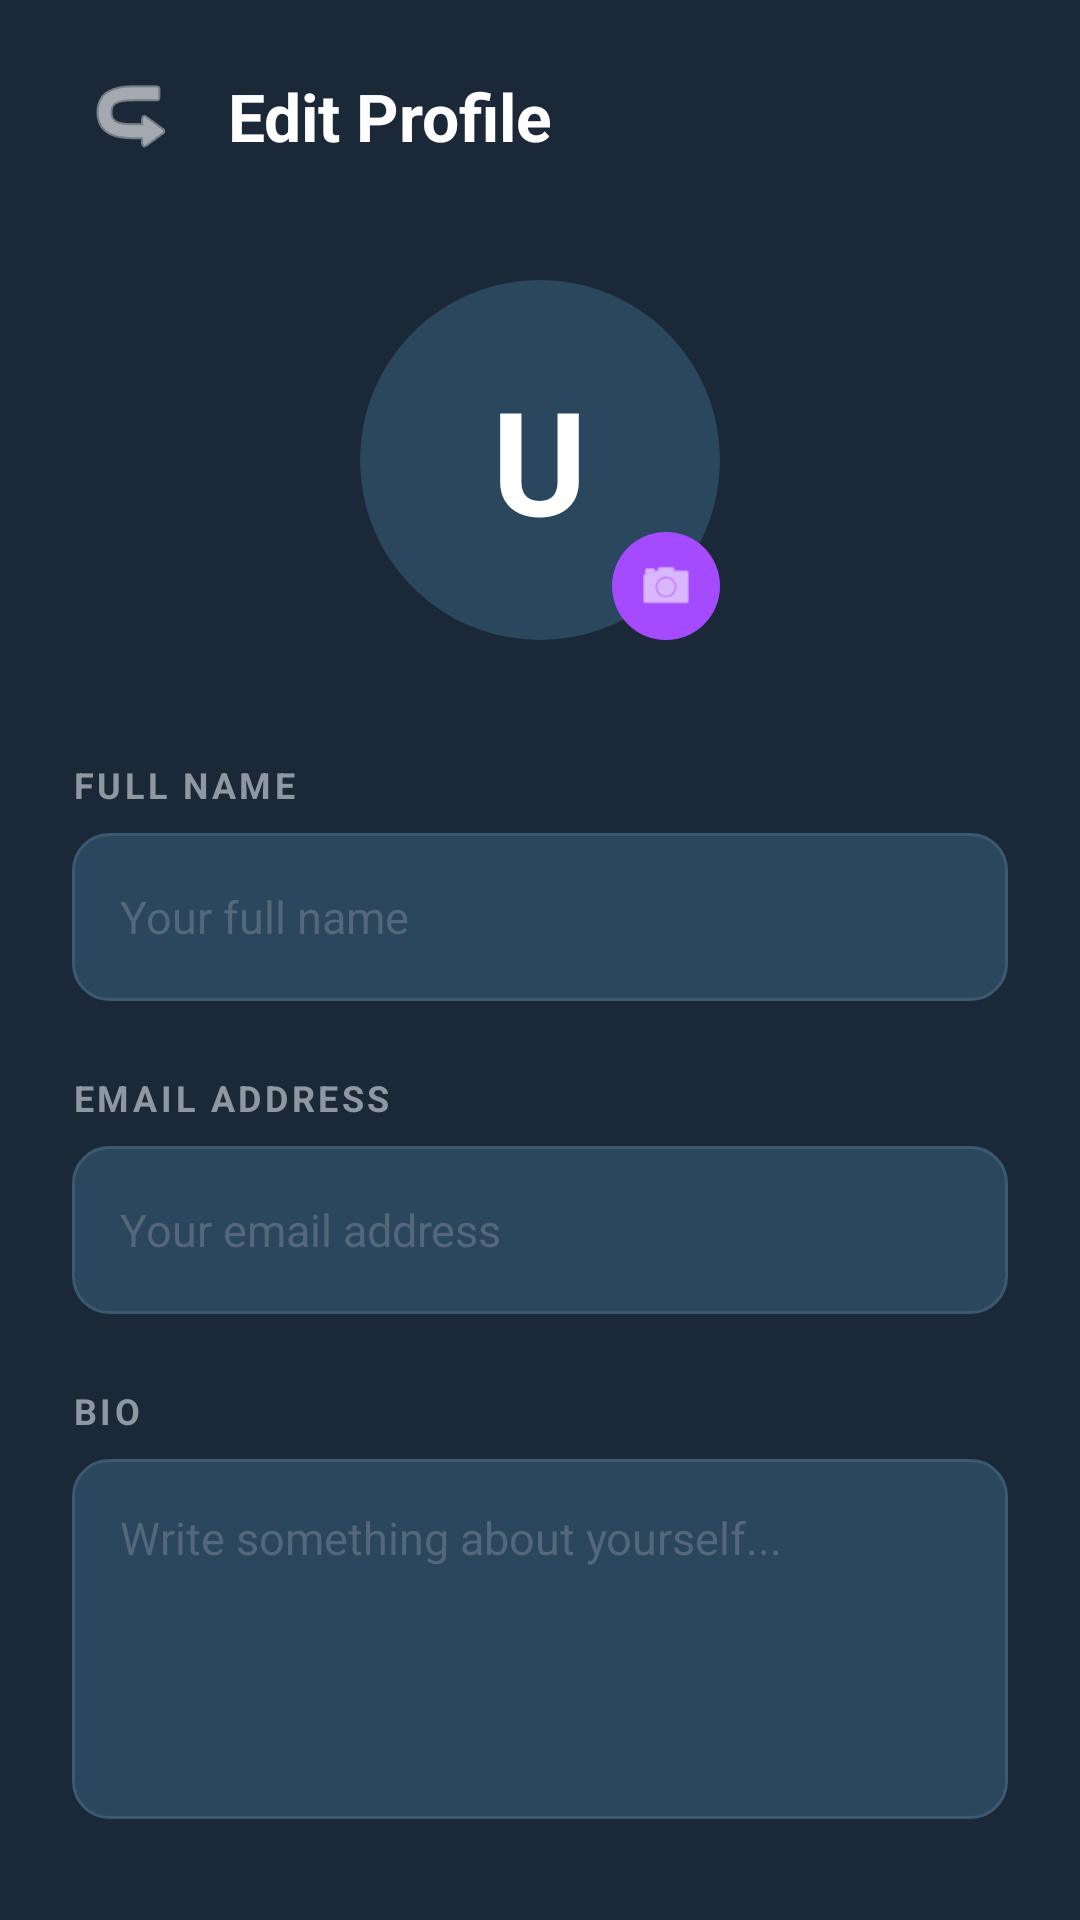

Point at icon controls on the screen. Image size 1080*1920, points as (x,y).
camera: (666,586)
